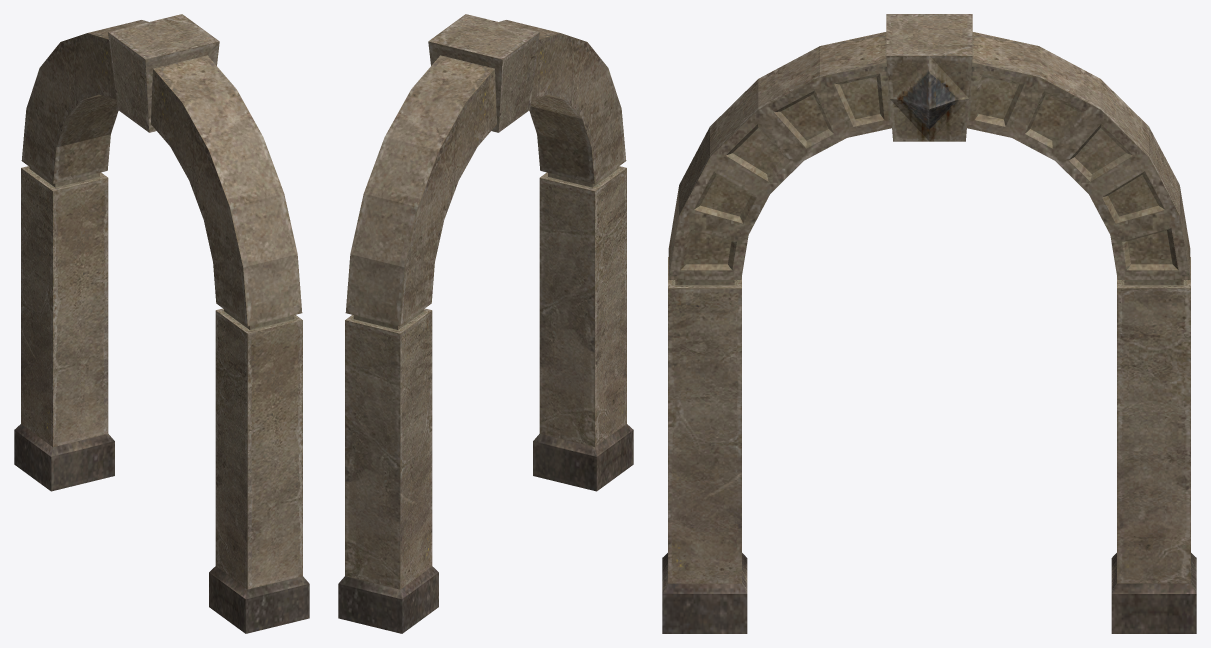
The model's file is bg_lut_lutomb_arch05b_sm_old.FBX.
3 renders of one model, left to right at view 1: azimuth 30°, elevation 25°; view 2: azimuth 150°, elevation 25°; view 3: azimuth 270°, elevation 25°, orthographic. The views are drawn at different scales.
Visible parts, largest first — view 1: bg_lut_lutomb_arch05b_sm_old; view 2: bg_lut_lutomb_arch05b_sm_old; view 3: bg_lut_lutomb_arch05b_sm_old.
Part boxes in pixels (bbox=[...]): bg_lut_lutomb_arch05b_sm_old: bbox=[14, 14, 309, 633]; bg_lut_lutomb_arch05b_sm_old: bbox=[338, 14, 633, 633]; bg_lut_lutomb_arch05b_sm_old: bbox=[662, 14, 1196, 633].
Bounding box in the file's own units: 40.94 × 219 × 182.
